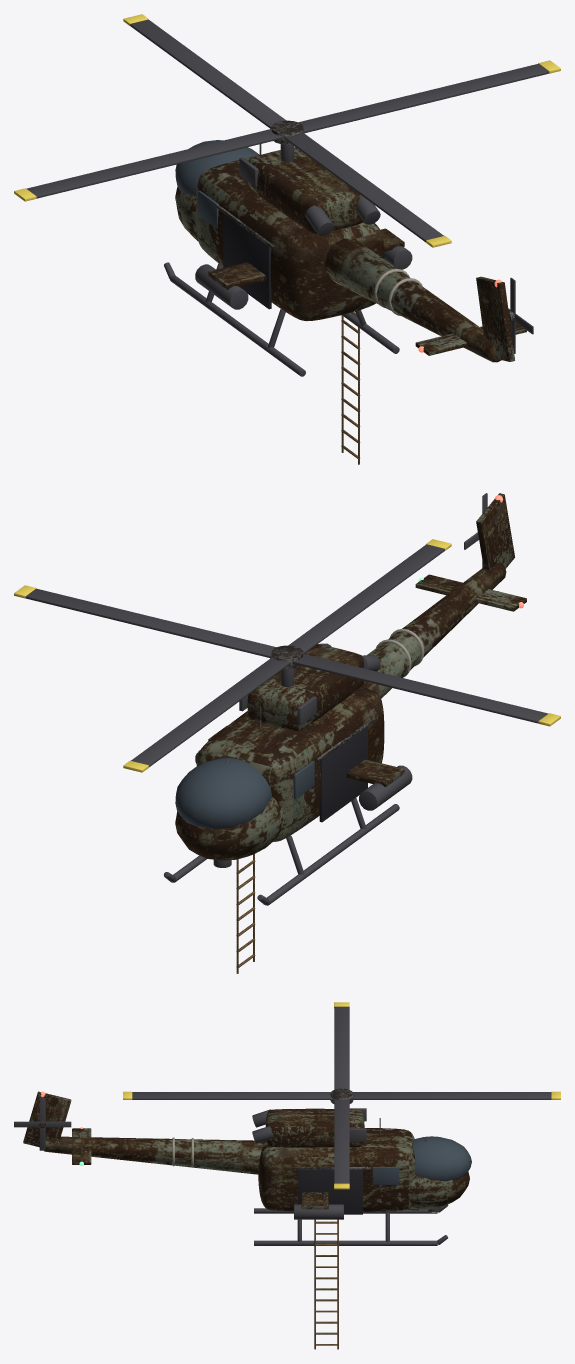
File: vehicle_helicopter.glb
The picture shows the model from 3 angles, top to bottom: view 1: azimuth 30°, elevation 25°; view 2: azimuth 150°, elevation 25°; view 3: azimuth 270°, elevation 25°; orthographic projection. The views are drawn at different scales.
Parts seen in each view (by area): view 1: Root_Geo, Rotor_Geo, Ladder_Geo, TailRotor_Geo; view 2: Root_Geo, Rotor_Geo, Ladder_Geo; view 3: Root_Geo, Rotor_Geo, Ladder_Geo, TailRotor_Geo.
Boxes of the visible parts, x1=… form: Root_Geo: x1=164, y1=140, x2=526, y2=376; Rotor_Geo: x1=14, y1=14, x2=560, y2=247; Ladder_Geo: x1=341, y1=312, x2=360, y2=464; TailRotor_Geo: x1=508, y1=277, x2=533, y2=353; Root_Geo: x1=164, y1=493, x2=526, y2=905; Rotor_Geo: x1=14, y1=539, x2=560, y2=772; Ladder_Geo: x1=236, y1=854, x2=255, y2=973; Root_Geo: x1=23, y1=1091, x2=471, y2=1245; Rotor_Geo: x1=123, y1=1002, x2=560, y2=1189; Ladder_Geo: x1=314, y1=1219, x2=338, y2=1349; TailRotor_Geo: x1=14, y1=1098, x2=71, y2=1150.
Size of the model in its own units: 11.45 by 6.9 by 14.3.
11 materials, 3 textured.
